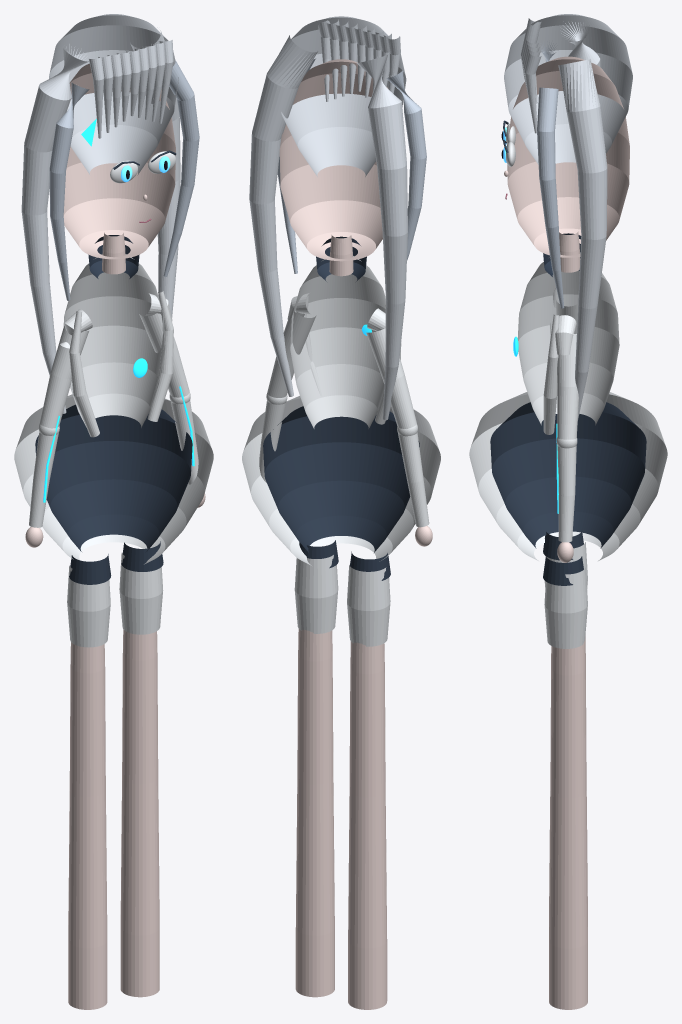
The model's file is ai_companion_character_v7.glb.
3 renders of one model, left to right at view 1: azimuth 30°, elevation 25°; view 2: azimuth 150°, elevation 25°; view 3: azimuth 270°, elevation 25°, orthographic.
Parts seen in each view (by area): view 1: skirt_inner, leg_1, leg_-1, torso, hair_cap, head, back_lock_-1, outer_skirt, side_lock_1, side_lock_-1, boot_-1, boot_1 (+20 smaller); view 2: skirt_inner, leg_-1, leg_1, torso, head, back_lock_1, back_lock_-1, hair_cap, outer_skirt, boot_-1, boot_1, side_lock_-1 (+14 smaller); view 3: skirt_inner, leg_1, back_lock_1, head, hair_cap, torso, outer_skirt, side_lock_1, boot_1, upperarm_1, forearm_1, coat_panel_1 (+6 smaller).
Boxes of the visible parts, x1,y1,x2,y2 form: skirt_inner: [35, 404, 192, 551]; leg_1: [120, 629, 159, 997]; leg_-1: [68, 642, 107, 1009]; torso: [63, 254, 165, 427]; hair_cap: [49, 14, 178, 175]; head: [63, 63, 175, 259]; back_lock_-1: [21, 44, 89, 413]; outer_skirt: [14, 394, 213, 564]; side_lock_1: [163, 60, 199, 276]; side_lock_-1: [49, 82, 89, 300]; boot_-1: [67, 565, 110, 647]; boot_1: [119, 553, 163, 634]; skirt_inner: [263, 406, 419, 552]; leg_-1: [348, 641, 387, 1009]; leg_1: [295, 629, 334, 997]; torso: [290, 256, 385, 428]; head: [279, 59, 388, 261]; back_lock_1: [249, 35, 317, 396]; back_lock_-1: [357, 55, 407, 420]; hair_cap: [276, 16, 406, 176]; outer_skirt: [242, 396, 440, 565]; boot_-1: [347, 565, 390, 646]; boot_1: [294, 555, 338, 633]; side_lock_-1: [386, 69, 426, 260]; skirt_inner: [490, 402, 646, 548]; leg_1: [549, 639, 587, 1009]; back_lock_1: [558, 59, 607, 420]; head: [507, 56, 629, 257]; hair_cap: [504, 14, 632, 164]; torso: [517, 252, 619, 425]; outer_skirt: [469, 392, 667, 560]; side_lock_1: [537, 87, 564, 308]; boot_1: [544, 567, 587, 648]; upperarm_1: [557, 334, 578, 439]; forearm_1: [557, 445, 576, 542]; coat_panel_1: [543, 314, 559, 434].
Size of the model in its own units: 1.36 by 7.08 by 1.32.
